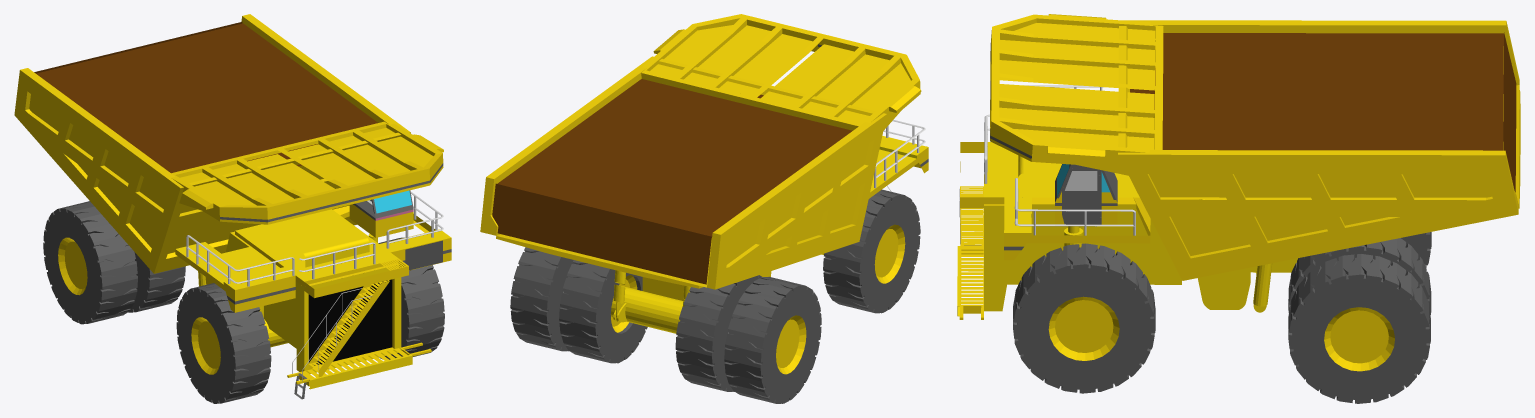
File: truck_loaded_draco.glb
3 renders of one model, left to right at view 1: azimuth 30°, elevation 25°; view 2: azimuth 150°, elevation 25°; view 3: azimuth 270°, elevation 25°, orthographic. The views are drawn at different scales.
Parts seen in each view (by area): view 1: Model, Plane, Group4; view 2: Model, Plane, Group4; view 3: Model, Plane, Group4, Group1, 1_in_Lg3.
Boxes of the visible parts, x1,y1,x2,y2 form: Model: (14, 14, 451, 403); Plane: (34, 21, 377, 173); Group4: (180, 127, 433, 205); Model: (480, 14, 928, 403); Plane: (492, 79, 852, 284); Group4: (650, 25, 910, 123); Model: (957, 14, 1520, 403); Plane: (1130, 32, 1516, 192); Group4: (999, 23, 1155, 149); Group1: (1064, 170, 1098, 191); 1_in_Lg3: (1253, 263, 1272, 306).
Bounding box in the file's own units: 6.5 × 5.45 × 10.79.
